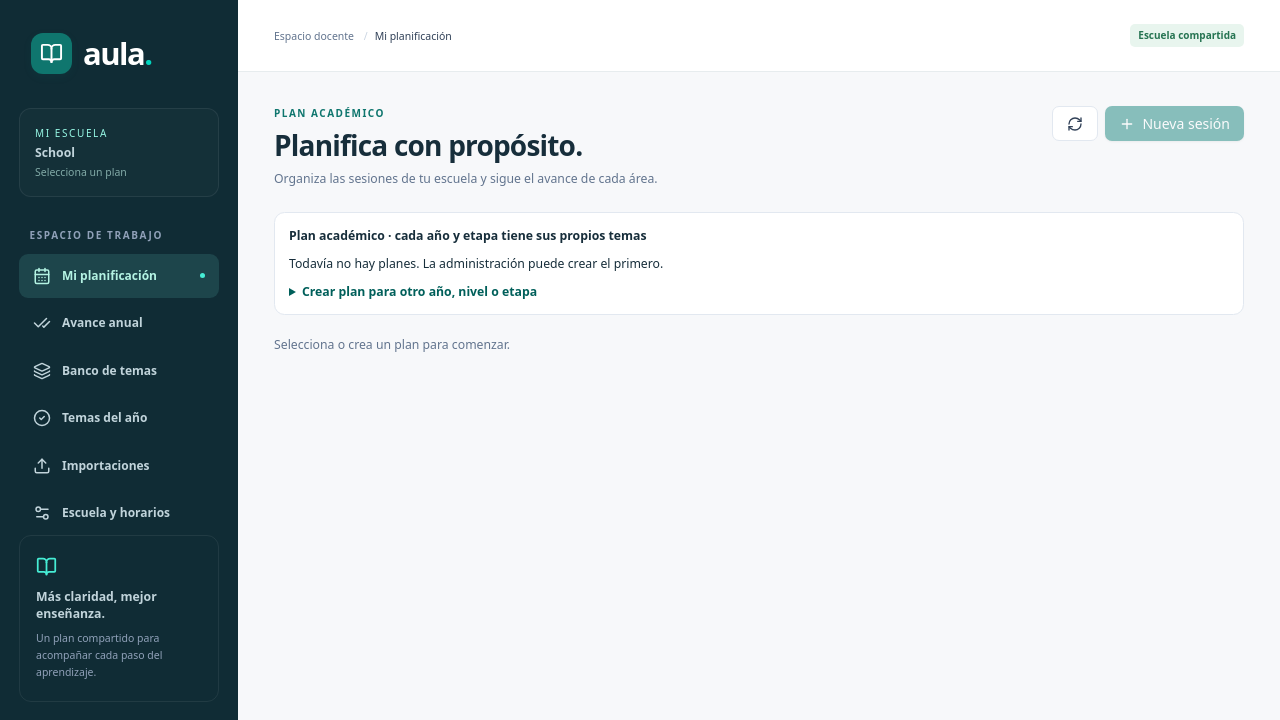
Test: can select its first confirmed plan without fabricating an empty-school default
Expected: the text "Todavía no hay planes. La administración puede crear el primero." is shown, [289,255,663,272]
Click the heading "Crear plan para otro año, nivel o etapa".
click(420, 291)  # box [302,283,537,300]
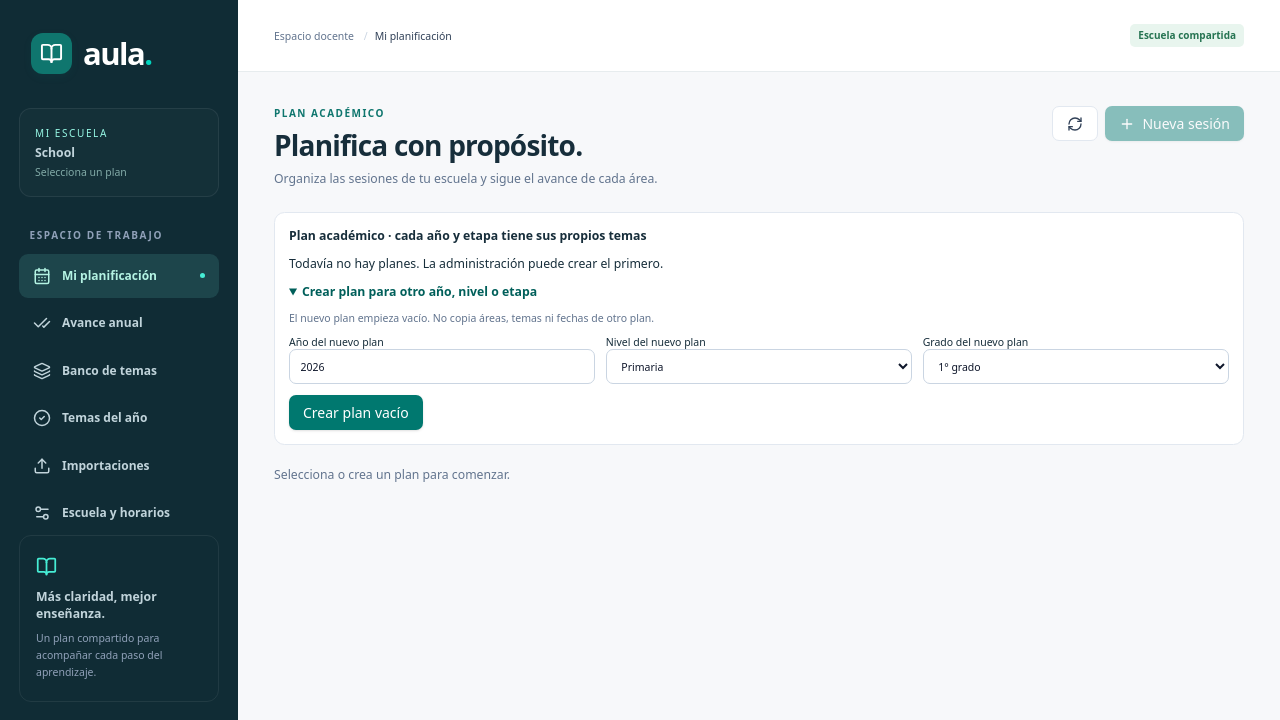
Replace the text in the number field labelled "Año del nuevo plan" with "2027" at (442, 367), box [289,349,595,384]
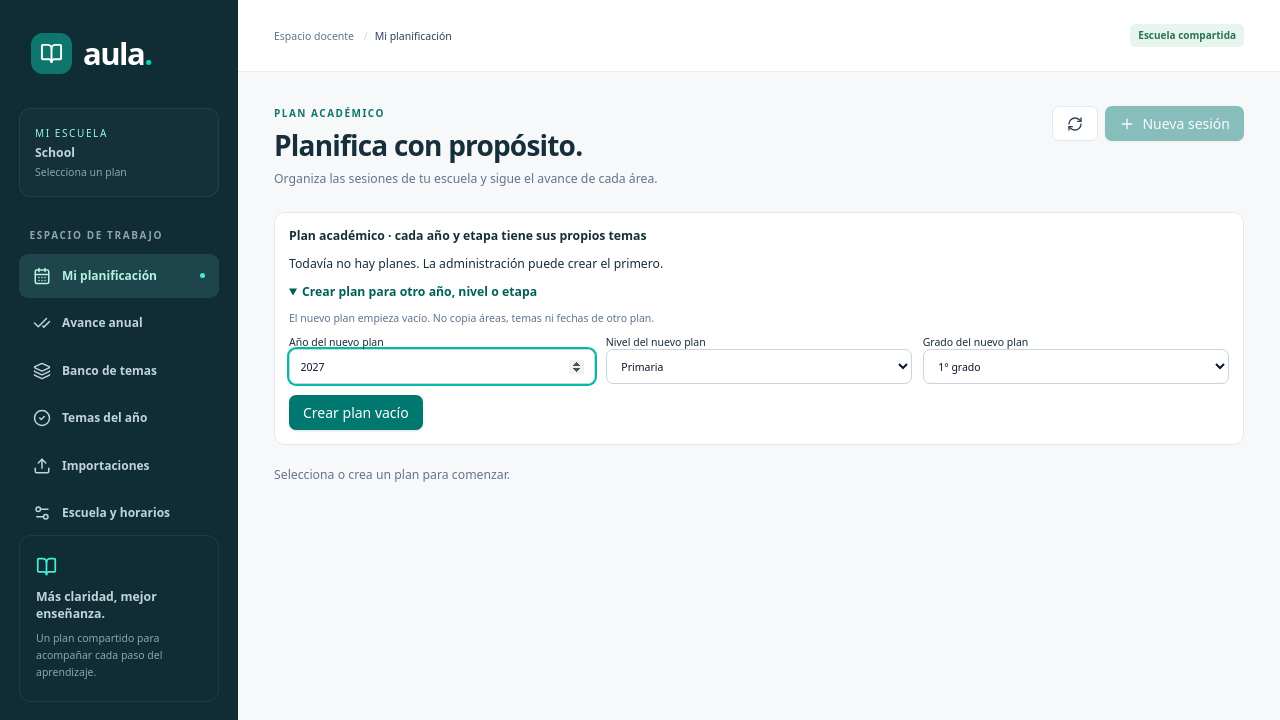
Select "3° grado" in the dropdown labelled "Grado del nuevo plan" at (1076, 367), box [923,349,1229,384]
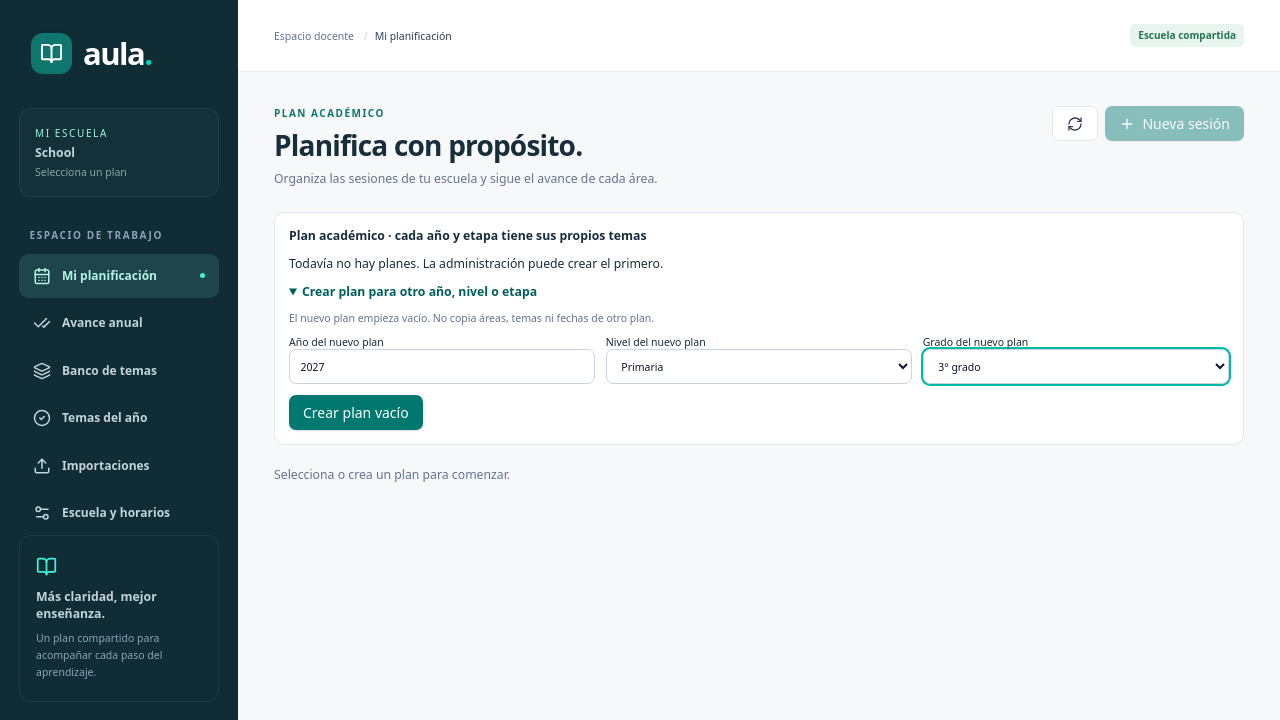
Click the button "Crear plan vacío".
click(356, 412)  # box [289,395,423,430]
(page scrolled)
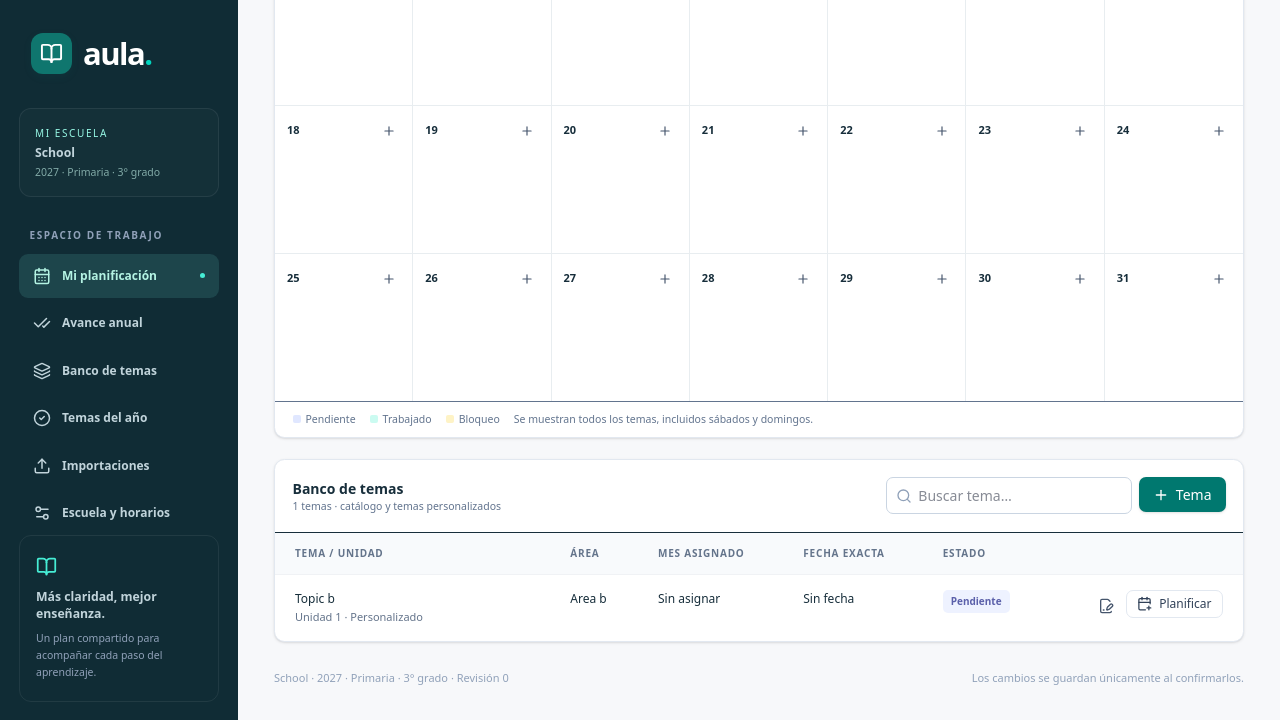
Now the text "Topic b" is shown, box [295,590,335,607]
